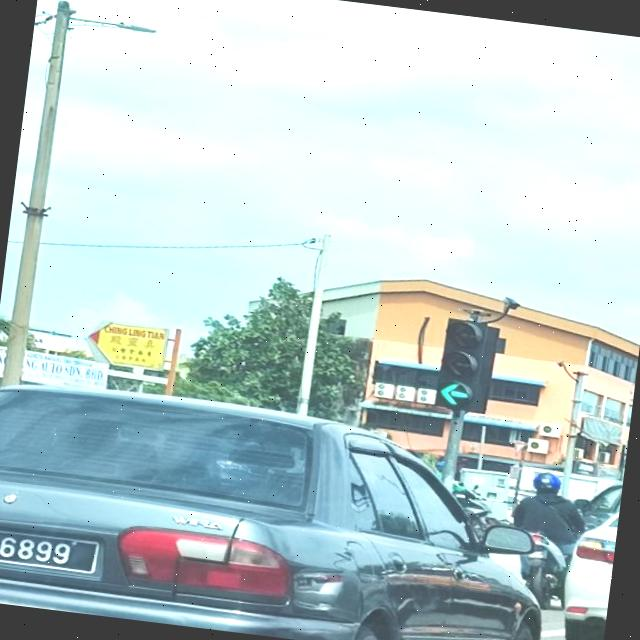green_light: (434, 318, 486, 412)
